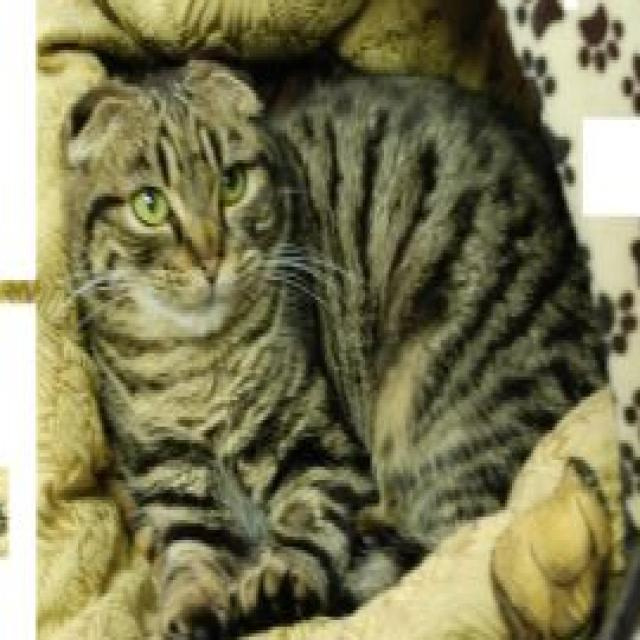Scottish Fold: (50, 50, 614, 640)
